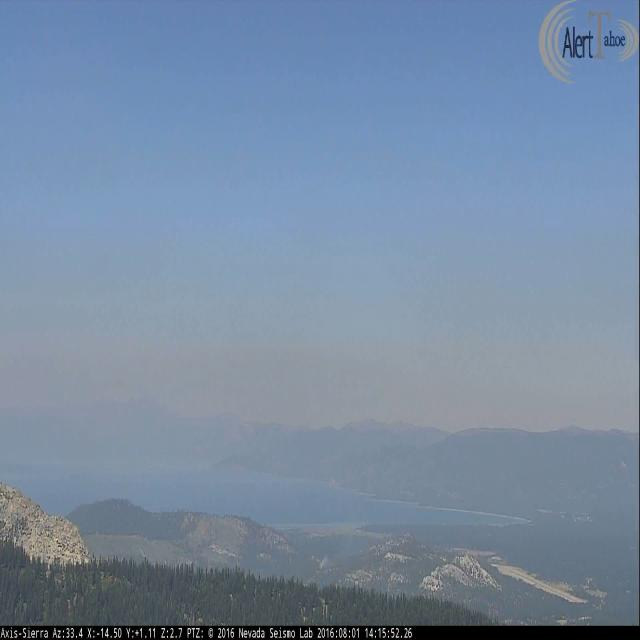smoke: (319, 554, 328, 571)
